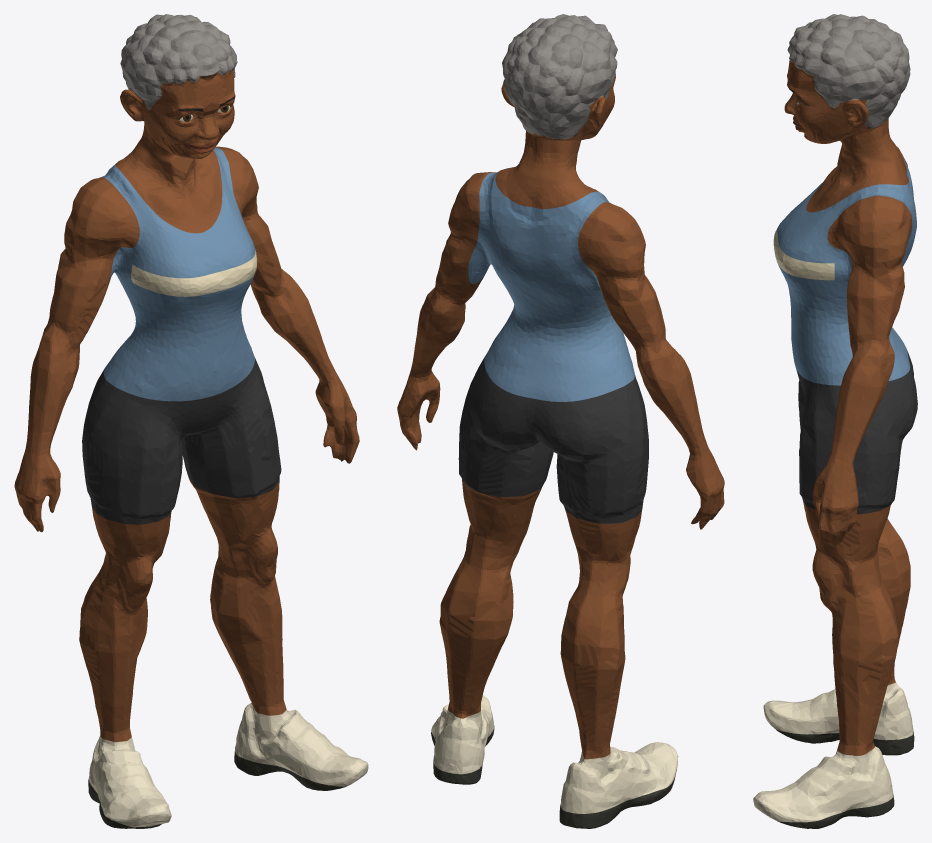
File: standing.glb
3 renders of one model, left to right at view 1: azimuth 30°, elevation 25°; view 2: azimuth 150°, elevation 25°; view 3: azimuth 270°, elevation 25°, orthographic. The views are drawn at different scales.
Visible parts, largest first — view 1: Skin, Charcoal shorts, Blue singlet, Ivory shoes, Silver curls, Cream stripe, Shoe soles; view 2: Skin, Blue singlet, Charcoal shorts, Silver curls, Ivory shoes, Shoe soles; view 3: Skin, Blue singlet, Ivory shoes, Silver curls, Charcoal shorts, Shoe soles, Cream stripe.
Part boxes in pixels (<box>): Skin: <box>14,68,359,741</box>; Charcoal shorts: <box>82,358,281,524</box>; Blue singlet: <box>101,147,255,401</box>; Ivory shoes: <box>88,703,368,827</box>; Silver curls: <box>120,14,237,109</box>; Cream stripe: <box>131,249,257,296</box>; Shoe soles: <box>88,751,345,828</box>; Skin: <box>397,76,724,759</box>; Blue singlet: <box>468,172,634,401</box>; Charcoal shorts: <box>458,357,648,523</box>; Silver curls: <box>502,14,617,139</box>; Ivory shoes: <box>431,695,678,813</box>; Shoe soles: <box>431,725,675,828</box>; Skin: <box>784,53,912,755</box>; Blue singlet: <box>777,155,916,385</box>; Ivory shoes: <box>753,682,913,822</box>; Silver curls: <box>787,14,910,128</box>; Charcoal shorts: <box>796,350,917,514</box>; Shoe soles: <box>776,730,914,828</box>; Cream stripe: <box>773,228,834,280</box>.
Size of the model in its own units: 0.4383 by 0.9938 by 0.1985.
